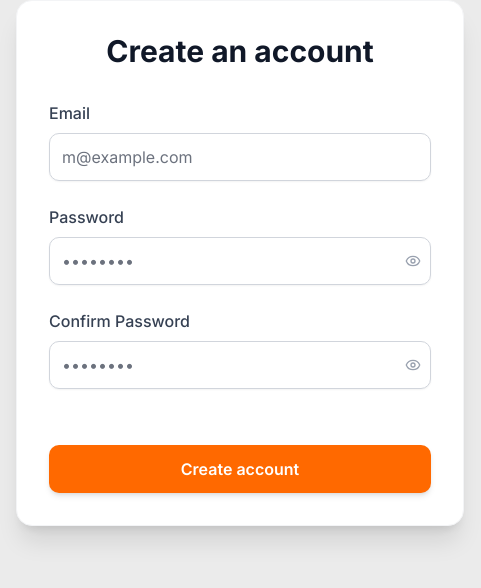
it: Auth Integration Tests › RegisterFormV1 › should show password mismatch error
Type "test@example.com" into the field labelled "Email" at [240, 157], box 49,133 -> 431,181
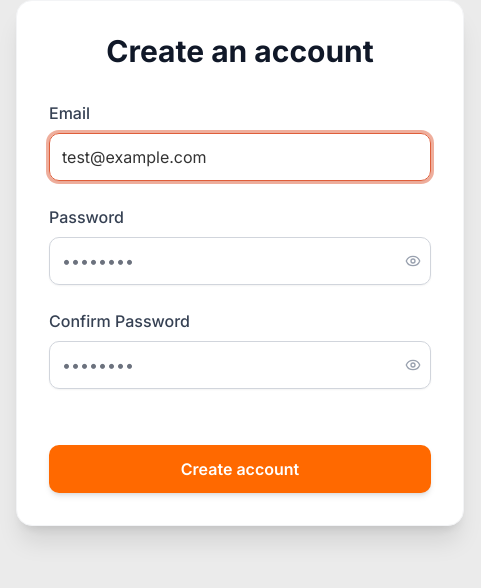
Type "password123" into the password field labelled "Password" at [240, 261], box 49,237 -> 431,285
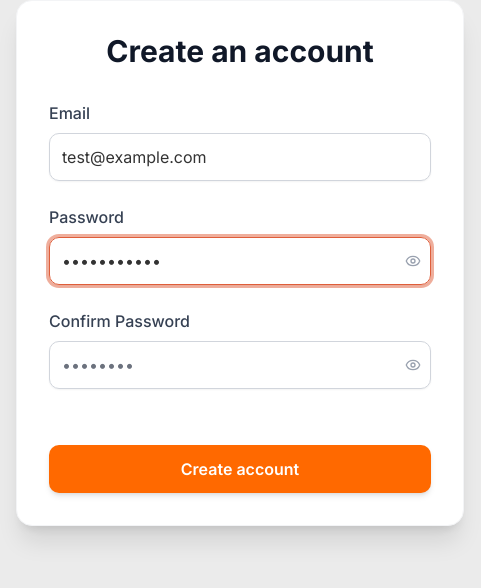
Type "different123" into the password field labelled "Confirm Password" at [240, 365], box 49,341 -> 431,389
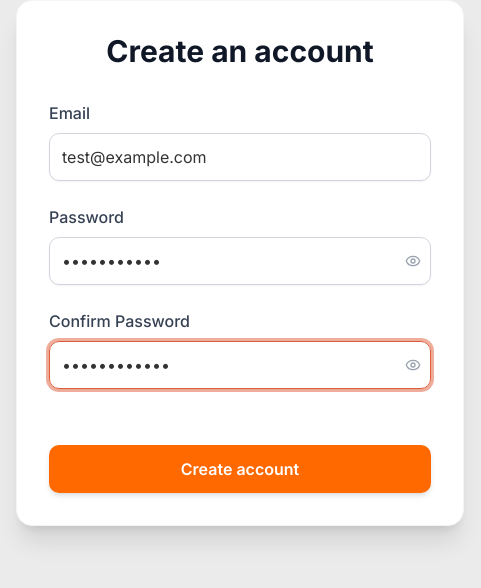
Click the button "Create account" at [240, 469], box 49,445 -> 431,493
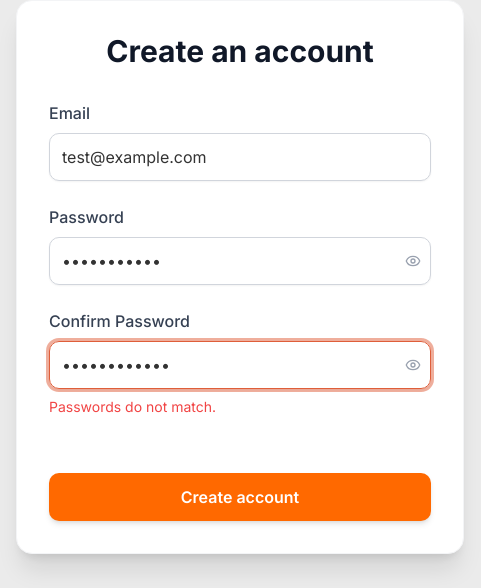
Now the text "Passwords do not match." is shown, box 49,398 -> 216,415
